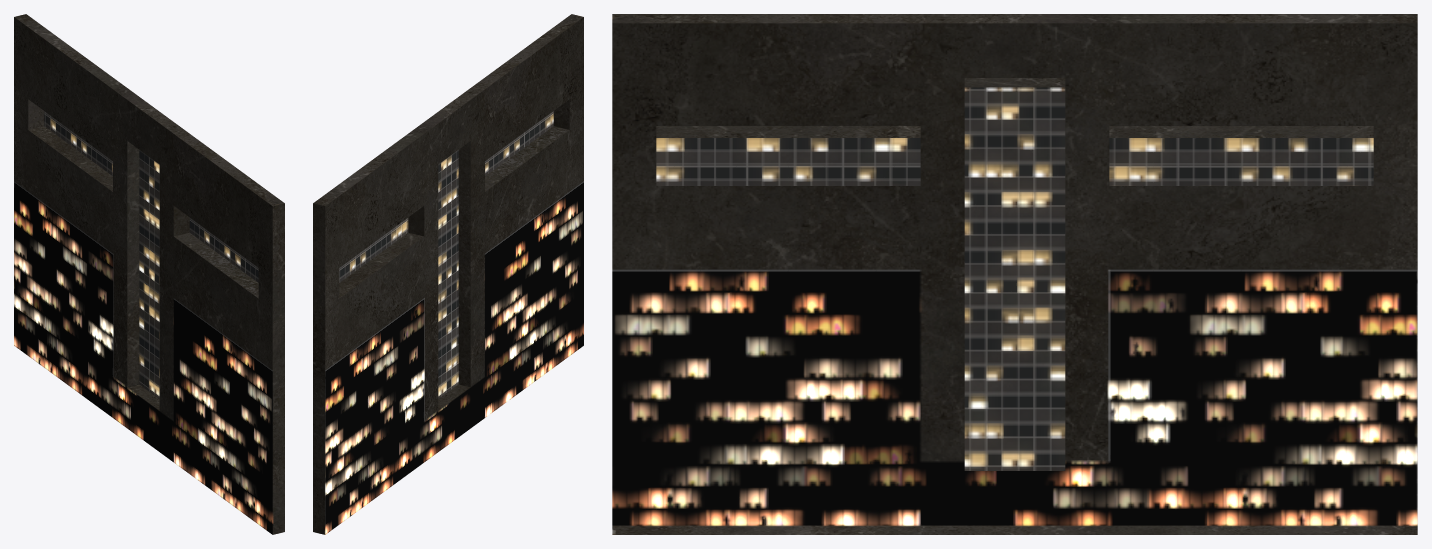
File: SM_Parts_polySurface1.fbx
3 views of the same model, side by side, from view 1: azimuth 30°, elevation 25°; view 2: azimuth 150°, elevation 25°; view 3: azimuth 270°, elevation 25° (orthographic). The views are drawn at different scales.
Parts seen in each view (by area): view 1: SM_Parts_polySurface1_LOD0; view 2: SM_Parts_polySurface1_LOD0; view 3: SM_Parts_polySurface1_LOD0.
Boxes of the visible parts, x1,y1,x2,y2 form: SM_Parts_polySurface1_LOD0: (14, 14, 284, 534); SM_Parts_polySurface1_LOD0: (313, 14, 583, 534); SM_Parts_polySurface1_LOD0: (612, 14, 1417, 534).
Size of the model in its own units: 103 by 2880 by 2020.
1 material, 1 textured.
